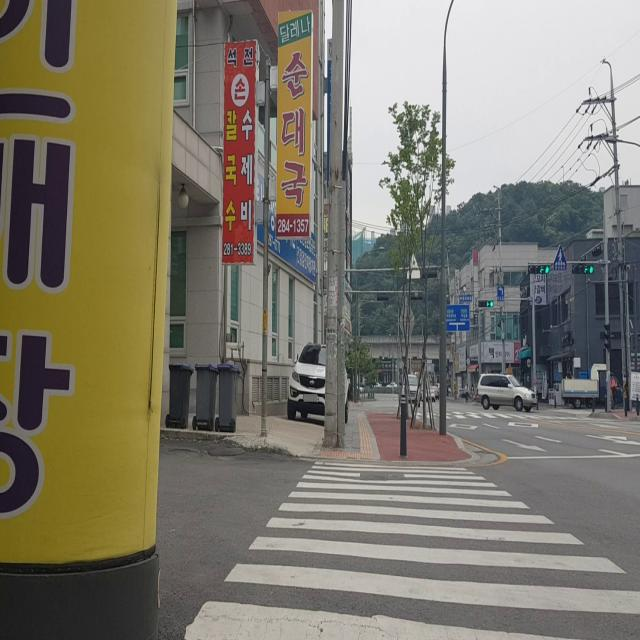횡단보도: (181, 456, 640, 639), (406, 409, 574, 426)
